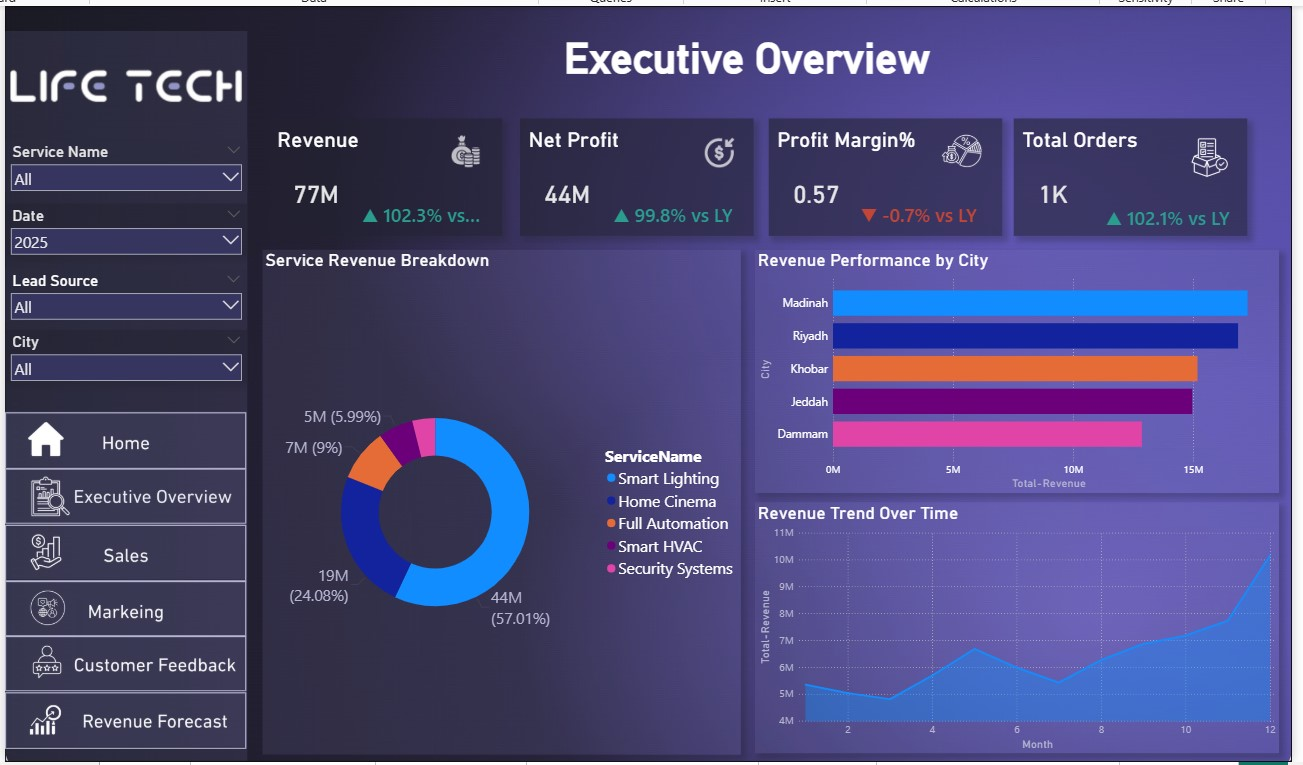

Layout of this report page (visuals, bound fields, positions):
{"tool":"powerbi","page":{"name":"Executive-Overview","canvas":[2200,1250],"ordinal":1},"visuals":[{"type":"textbox","box":[951.3,0,658.1,97],"z":0},{"type":"barChart","title":"Revenue Performance by City","fields":{"Category":["DimCity.City"],"Y":["DAX-Measures.Total-Revenue"],"Series":["DimCity.City"]},"box":[1281.5,374.1,895.9,415.6],"z":1000},{"type":"donutChart","title":"Service Revenue Breakdown","fields":{"Y":["DAX-Measures.Total-Revenue"],"Category":["DimServiceName.ServiceName"]},"box":[440,373,817.8,863.3],"z":2000},{"type":"areaChart","title":"Revenue Trend Over Time","fields":{"Y":["DAX-Measures.Total-Revenue"],"Category":["Calender.Month"]},"box":[1281.5,805.8,895.9,429.5],"z":3000},{"type":"cardVisual","title":"Revenue","fields":{"Data":["DAX-Measures.Total-Revenue"]},"box":[452,150.7,399.3,200.9],"z":4000},{"type":"image","box":[727,153,122,107.6],"z":5000},{"type":"cardVisual","fields":{"Data":["DAX-Measures.YoY KPI Text"]},"box":[581.1,279.8,270.2,67],"z":6000},{"type":"cardVisual","title":"Net Profit","fields":{"Data":["DAX-Measures.Net-Operating-Profit"]},"box":[880,150.7,399.3,200.9],"z":7000},{"type":"image","box":[1157.4,153,122,107.6],"z":8000},{"type":"cardVisual","fields":{"Data":["DAX-Measures.Net Profit KPI Text"]},"box":[1011.5,279.8,270.2,67],"z":9000},{"type":"cardVisual","title":"Profit Margin%","fields":{"Data":["DAX-Measures.Profit-Margin%"]},"box":[1305.7,150.7,399.3,200.9],"z":10000},{"type":"image","box":[1566.3,133.9,138.7,141.1],"z":11000},{"type":"cardVisual","fields":{"Data":["DAX-Measures.PM KPI Text"]},"box":[1434.8,277.4,270.2,69.3],"z":12000},{"type":"cardVisual","title":"Total Orders","fields":{"Data":["DAX-Measures.Total-Orders"]},"box":[1724.1,150.7,399.3,200.9],"z":13000},{"type":"image","box":[1987.2,150.7,136.3,141.1],"z":14000},{"type":"cardVisual","fields":{"Data":["DAX-Measures.Orders KPI Text"]},"box":[1853.3,284.6,270.2,67],"z":15000},{"type":"shape","box":[0,0,414.7,1248.3],"z":16000},{"type":"slicer","fields":{"Values":["DimCity.City"]},"box":[0,510.1,415,89.9],"z":17000},{"type":"slicer","fields":{"Values":["DimLeadSource.LeadSource"]},"box":[0,406.1,414.7,89.8],"z":17500},{"type":"slicer","fields":{"Values":["Calender.Year","Calender.Quarter","Calender.Month"]},"box":[0,294.4,415,89.9],"z":18000},{"type":"slicer","fields":{"Values":["DimServiceName.ServiceName"]},"box":[0,186.5,415,89.9],"z":19000},{"type":"image","box":[0,650.4,413.7,95.7],"z":21000},{"type":"image","box":[0,746.1,413.7,95.7],"z":22000},{"type":"image","box":[0,841.7,413.7,95.7],"z":23000},{"type":"image","box":[0,937.4,413.7,95.7],"z":24000},{"type":"image","box":[0,1033,413.7,95.7],"z":25000},{"type":"image","box":[0,1128.7,413.7,95.7],"z":26000},{"type":"image","box":[9.6,0,397,186.5],"z":27000},{"type":"actionButton","box":[0,651.7,412.7,97],"z":28000},{"type":"actionButton","box":[0,1129.8,412.7,97],"z":28500},{"type":"actionButton","box":[0,748.7,412.7,94.7],"z":29000},{"type":"actionButton","box":[0,843.4,412.7,97],"z":30000},{"type":"actionButton","box":[0,940.4,412.7,94.7],"z":31000},{"type":"actionButton","box":[0,1035.1,412.7,94.7],"z":32000}]}

Visuals, with their boxes on the page's 2200x1250 design canvas (x1, y1, x2, y2). These are canvas units, not pixel positions in the 1303x765 screenshot, which may show the page scaled, cropped or inside an application window:
textbox: region(951, 0, 1609, 97)
"Revenue Performance by City" barChart: region(1282, 374, 2177, 790)
"Service Revenue Breakdown" donutChart: region(440, 373, 1258, 1236)
"Revenue Trend Over Time" areaChart: region(1282, 806, 2177, 1235)
"Revenue" cardVisual: region(452, 151, 851, 352)
image: region(727, 153, 849, 261)
cardVisual - DAX-Measures.YoY KPI Text: region(581, 280, 851, 347)
"Net Profit" cardVisual: region(880, 151, 1279, 352)
image: region(1157, 153, 1279, 261)
cardVisual - DAX-Measures.Net Profit KPI Text: region(1012, 280, 1282, 347)
"Profit Margin%" cardVisual: region(1306, 151, 1705, 352)
image: region(1566, 134, 1705, 275)
cardVisual - DAX-Measures.PM KPI Text: region(1435, 277, 1705, 347)
"Total Orders" cardVisual: region(1724, 151, 2123, 352)
image: region(1987, 151, 2124, 292)
cardVisual - DAX-Measures.Orders KPI Text: region(1853, 285, 2124, 352)
shape: region(0, 0, 415, 1248)
slicer - DimCity.City: region(0, 510, 415, 600)
slicer - DimLeadSource.LeadSource: region(0, 406, 415, 496)
slicer - Calender.Year x Calender.Quarter: region(0, 294, 415, 384)
slicer - DimServiceName.ServiceName: region(0, 186, 415, 276)
image: region(0, 650, 414, 746)
image: region(0, 746, 414, 842)
image: region(0, 842, 414, 937)
image: region(0, 937, 414, 1033)
image: region(0, 1033, 414, 1129)
image: region(0, 1129, 414, 1224)
image: region(10, 0, 407, 186)
actionButton: region(0, 652, 413, 749)
actionButton: region(0, 1130, 413, 1227)
actionButton: region(0, 749, 413, 843)
actionButton: region(0, 843, 413, 940)
actionButton: region(0, 940, 413, 1035)
actionButton: region(0, 1035, 413, 1130)
